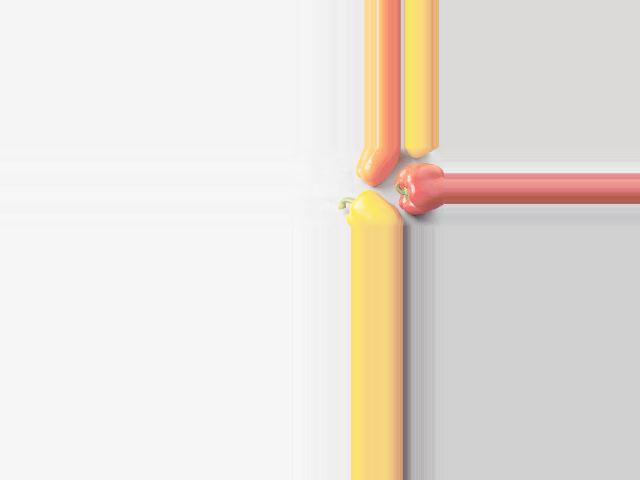bell_pepper: (394, 162, 443, 216)
